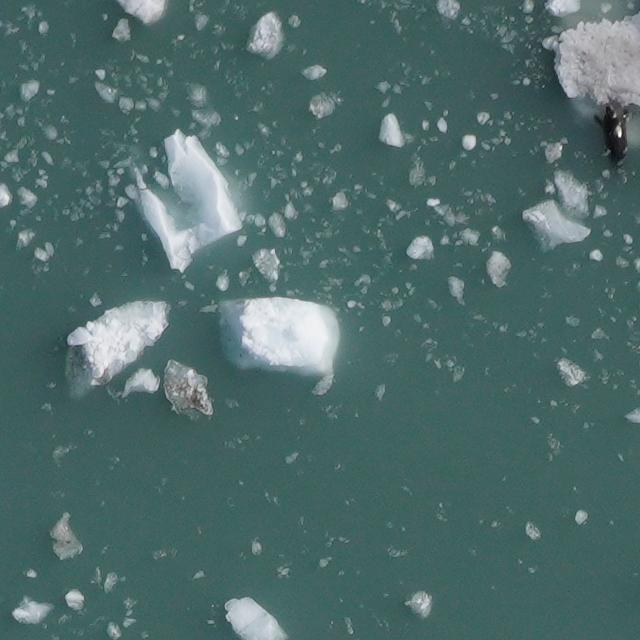seal: (590, 101, 636, 176)
